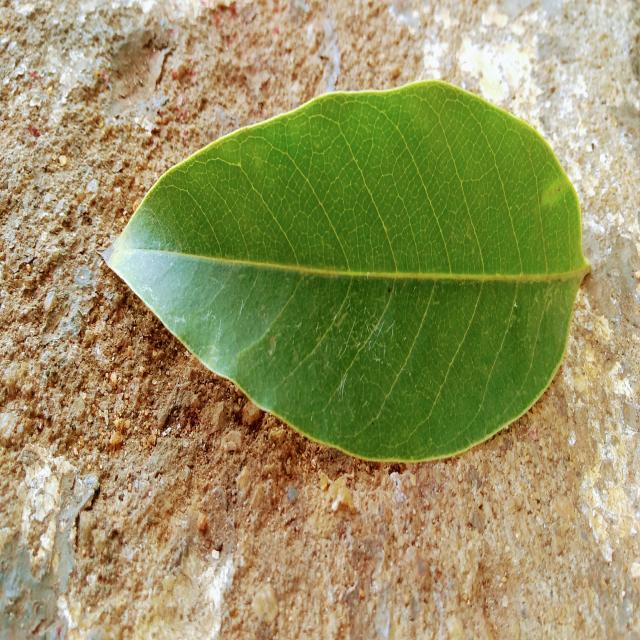sampige: (102, 80, 589, 460)
